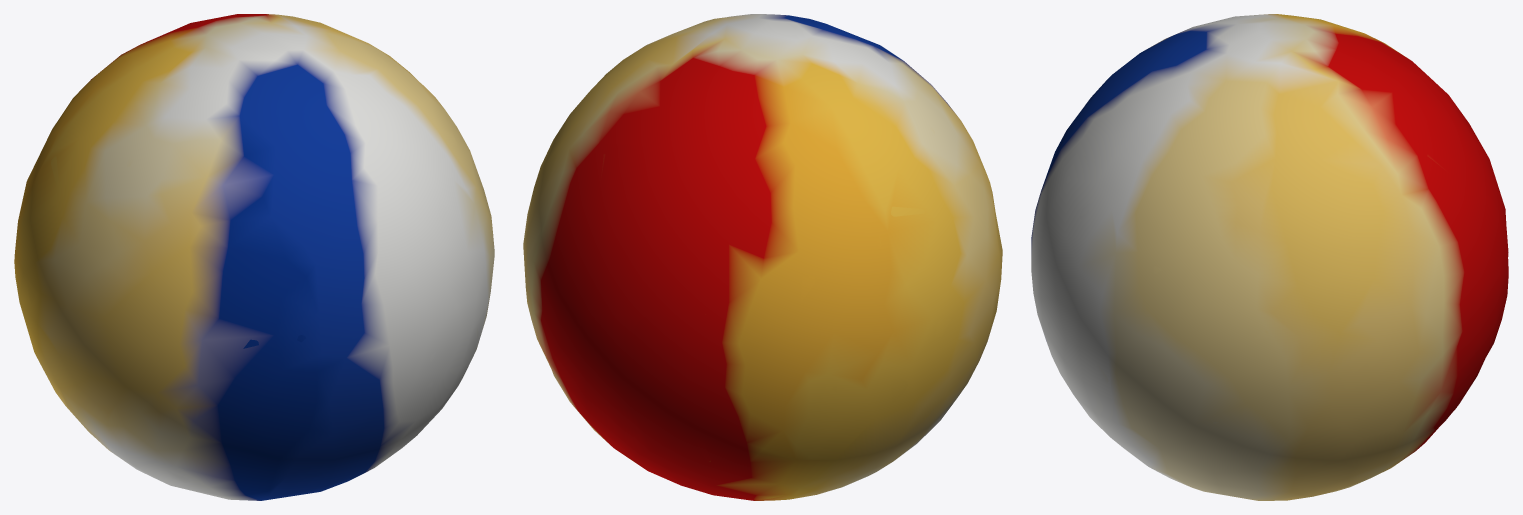
The model's file is gen3d-beach-ball-lod1.glb.
3 renders of one model, left to right at view 1: azimuth 30°, elevation 25°; view 2: azimuth 150°, elevation 25°; view 3: azimuth 270°, elevation 25°, orthographic.
Parts seen in each view (by area): view 1: part_0; view 2: part_0; view 3: part_0.
Boxes of the visible parts, left/top/right/bottom form: part_0: left=14, top=14, right=494, bottom=500; part_0: left=523, top=14, right=1002, bottom=500; part_0: left=1031, top=14, right=1508, bottom=500.
Bounding box in the file's own units: 0.9777 × 0.9993 × 0.9749.
